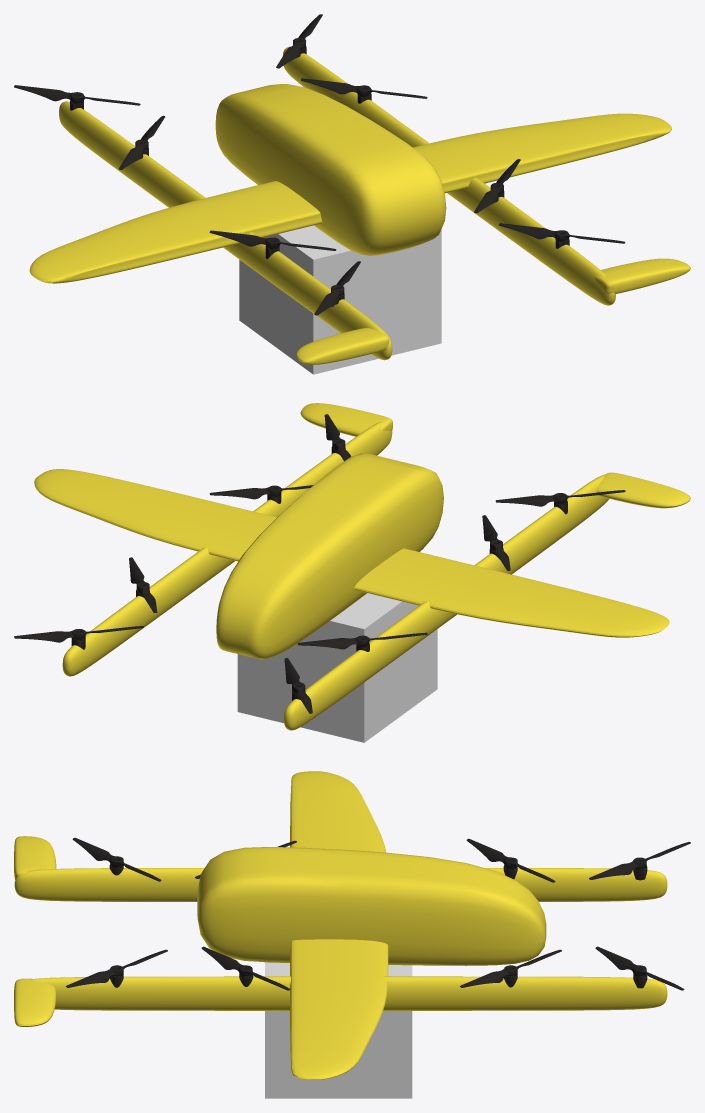
Rendered from Drone_model.fbx.
3 views of the same model, one above another, from view 1: azimuth 30°, elevation 25°; view 2: azimuth 150°, elevation 25°; view 3: azimuth 270°, elevation 25° (orthographic).
Visible parts, largest first — view 1: Drone_model, Package, Sphere_007, Sphere_009, Sphere_003, Sphere_005, Sphere_002, Sphere_006, Sphere_008, Sphere_004; view 2: Drone_model, Package, Sphere_002, Sphere_006, Sphere_008, Sphere_004, Sphere_009, Sphere_007, Sphere_003, Sphere_005; view 3: Drone_model, Package, Sphere_009, Sphere_002, Sphere_003, Sphere_005, Sphere_008, Sphere_004, Sphere_006.
Boxes of the visible parts, bbox=[...] form: Drone_model: bbox=[29, 46, 690, 364]; Package: bbox=[239, 225, 441, 374]; Sphere_007: bbox=[209, 230, 336, 259]; Sphere_009: bbox=[14, 85, 140, 110]; Sphere_003: bbox=[301, 78, 427, 103]; Sphere_005: bbox=[499, 223, 625, 248]; Sphere_002: bbox=[276, 14, 322, 68]; Sphere_006: bbox=[314, 261, 360, 315]; Sphere_008: bbox=[118, 115, 165, 169]; Sphere_004: bbox=[474, 159, 520, 213]; Drone_model: bbox=[34, 403, 690, 730]; Package: bbox=[237, 593, 437, 742]; Sphere_002: bbox=[14, 626, 143, 649]; Sphere_006: bbox=[495, 490, 625, 514]; Sphere_008: bbox=[297, 632, 427, 651]; Sphere_004: bbox=[209, 485, 313, 503]; Sphere_009: bbox=[284, 658, 312, 713]; Sphere_007: bbox=[482, 515, 510, 570]; Sphere_003: bbox=[129, 557, 157, 612]; Sphere_005: bbox=[324, 414, 350, 461]; Drone_model: bbox=[14, 771, 667, 1079]; Package: bbox=[265, 962, 412, 1098]; Sphere_009: bbox=[589, 842, 690, 880]; Sphere_002: bbox=[595, 946, 684, 990]; Sphere_003: bbox=[460, 949, 561, 987]; Sphere_005: bbox=[66, 949, 167, 987]; Sphere_008: bbox=[466, 838, 555, 882]; Sphere_004: bbox=[201, 946, 290, 990]; Sphere_006: bbox=[72, 837, 161, 881].
Size of the model in its own units: 1729 by 538 by 1608.
